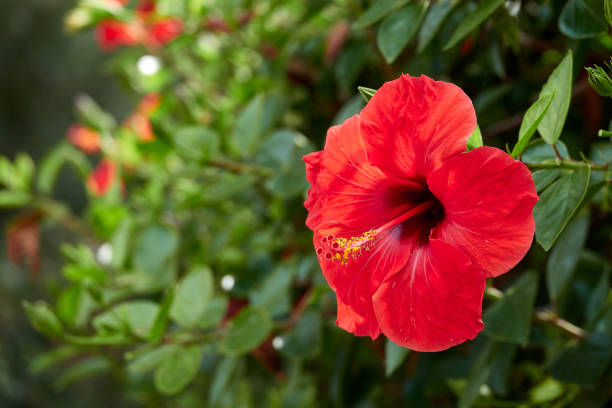Hibiscus: (314, 63, 542, 354)
